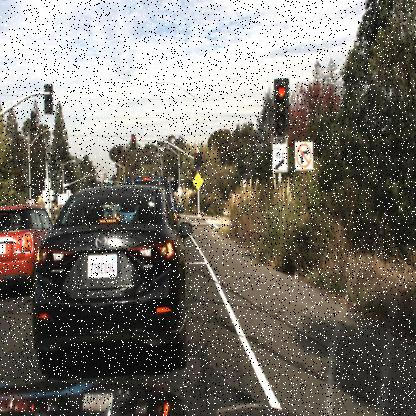car: (25, 180, 194, 373), (0, 194, 57, 300)
trafficLight-Red: (266, 61, 296, 154), (272, 78, 291, 136), (126, 126, 138, 155), (191, 146, 201, 176), (130, 132, 138, 152), (193, 151, 200, 169)
